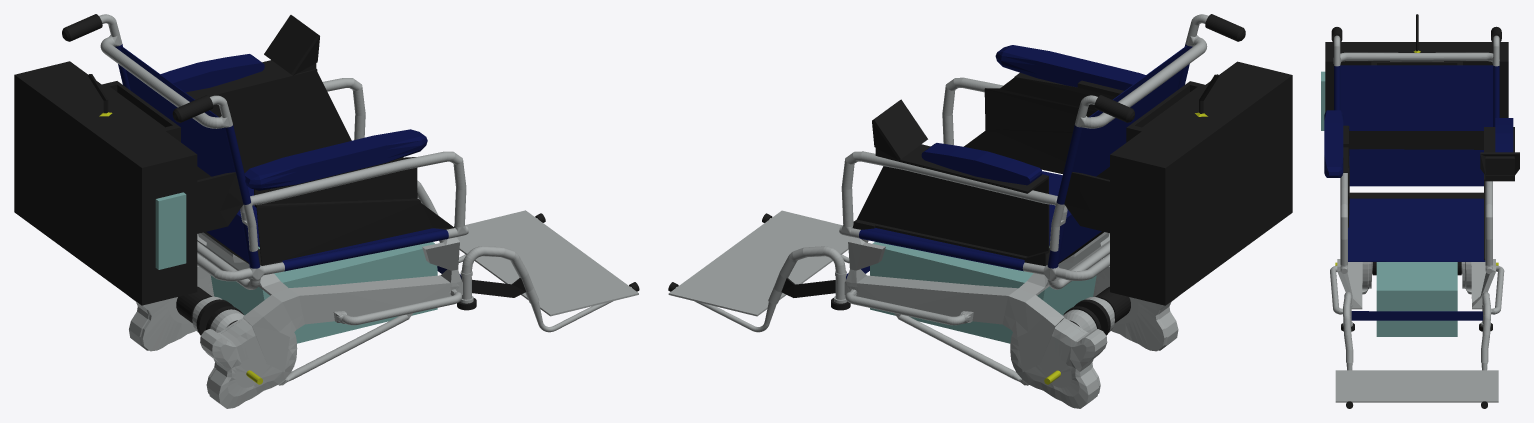
File: Wheelchair_Structure.dae
The picture shows the model from 3 angles, left to right: view 1: azimuth 30°, elevation 25°; view 2: azimuth 150°, elevation 25°; view 3: azimuth 270°, elevation 25°; orthographic projection. The views are drawn at different scales.
Visible parts, largest first — view 1: wheelchairbase; view 2: wheelchairbase; view 3: wheelchairbase.
Part boxes in pixels (x1,y1,x2,y2): wheelchairbase: (14,14,639,408); wheelchairbase: (668,14,1292,408); wheelchairbase: (1321,14,1519,408).
Size of the model in its own units: 1.24 by 0.5779 by 0.7592.
